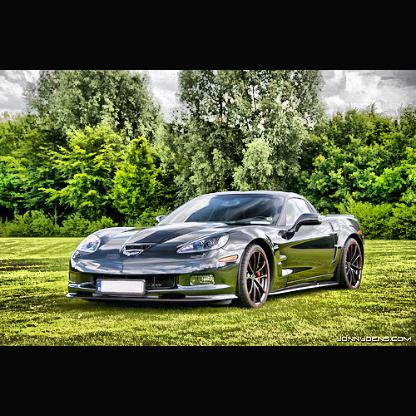Chevrolet Corvette ZR1 2012: (67, 191, 369, 309)
